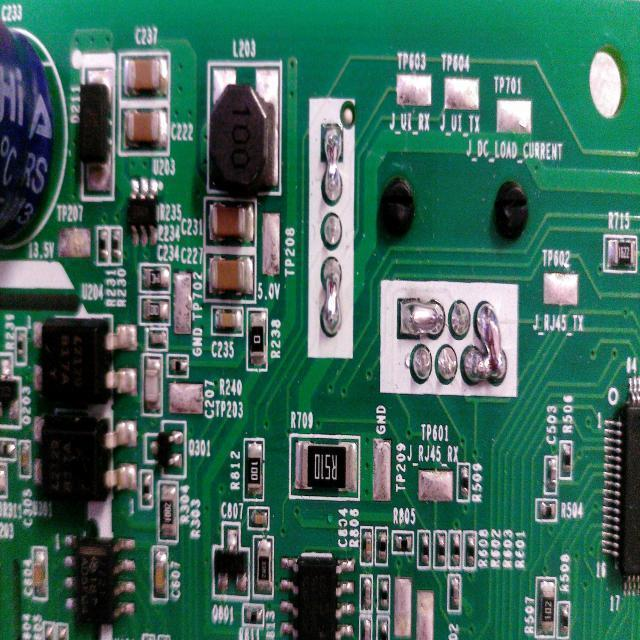Soldering shorted: (463, 288, 511, 392), (393, 288, 448, 341), (320, 252, 344, 340), (323, 122, 345, 206)
